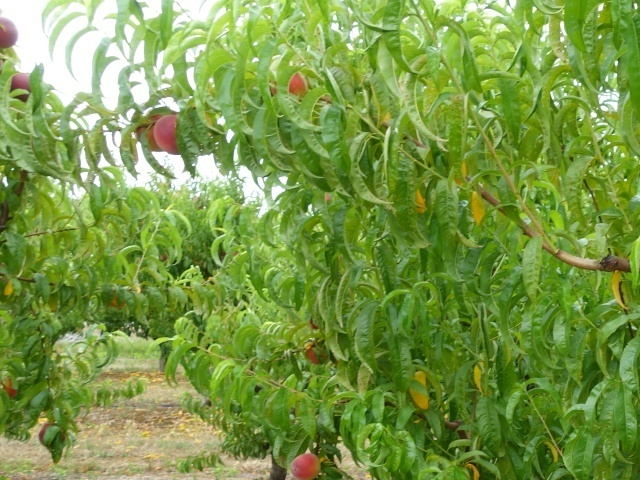peach: (130, 106, 169, 154), (150, 110, 188, 159), (270, 64, 311, 105), (5, 70, 43, 105), (34, 419, 68, 451), (287, 450, 323, 479), (303, 338, 330, 367), (1, 13, 20, 49)
